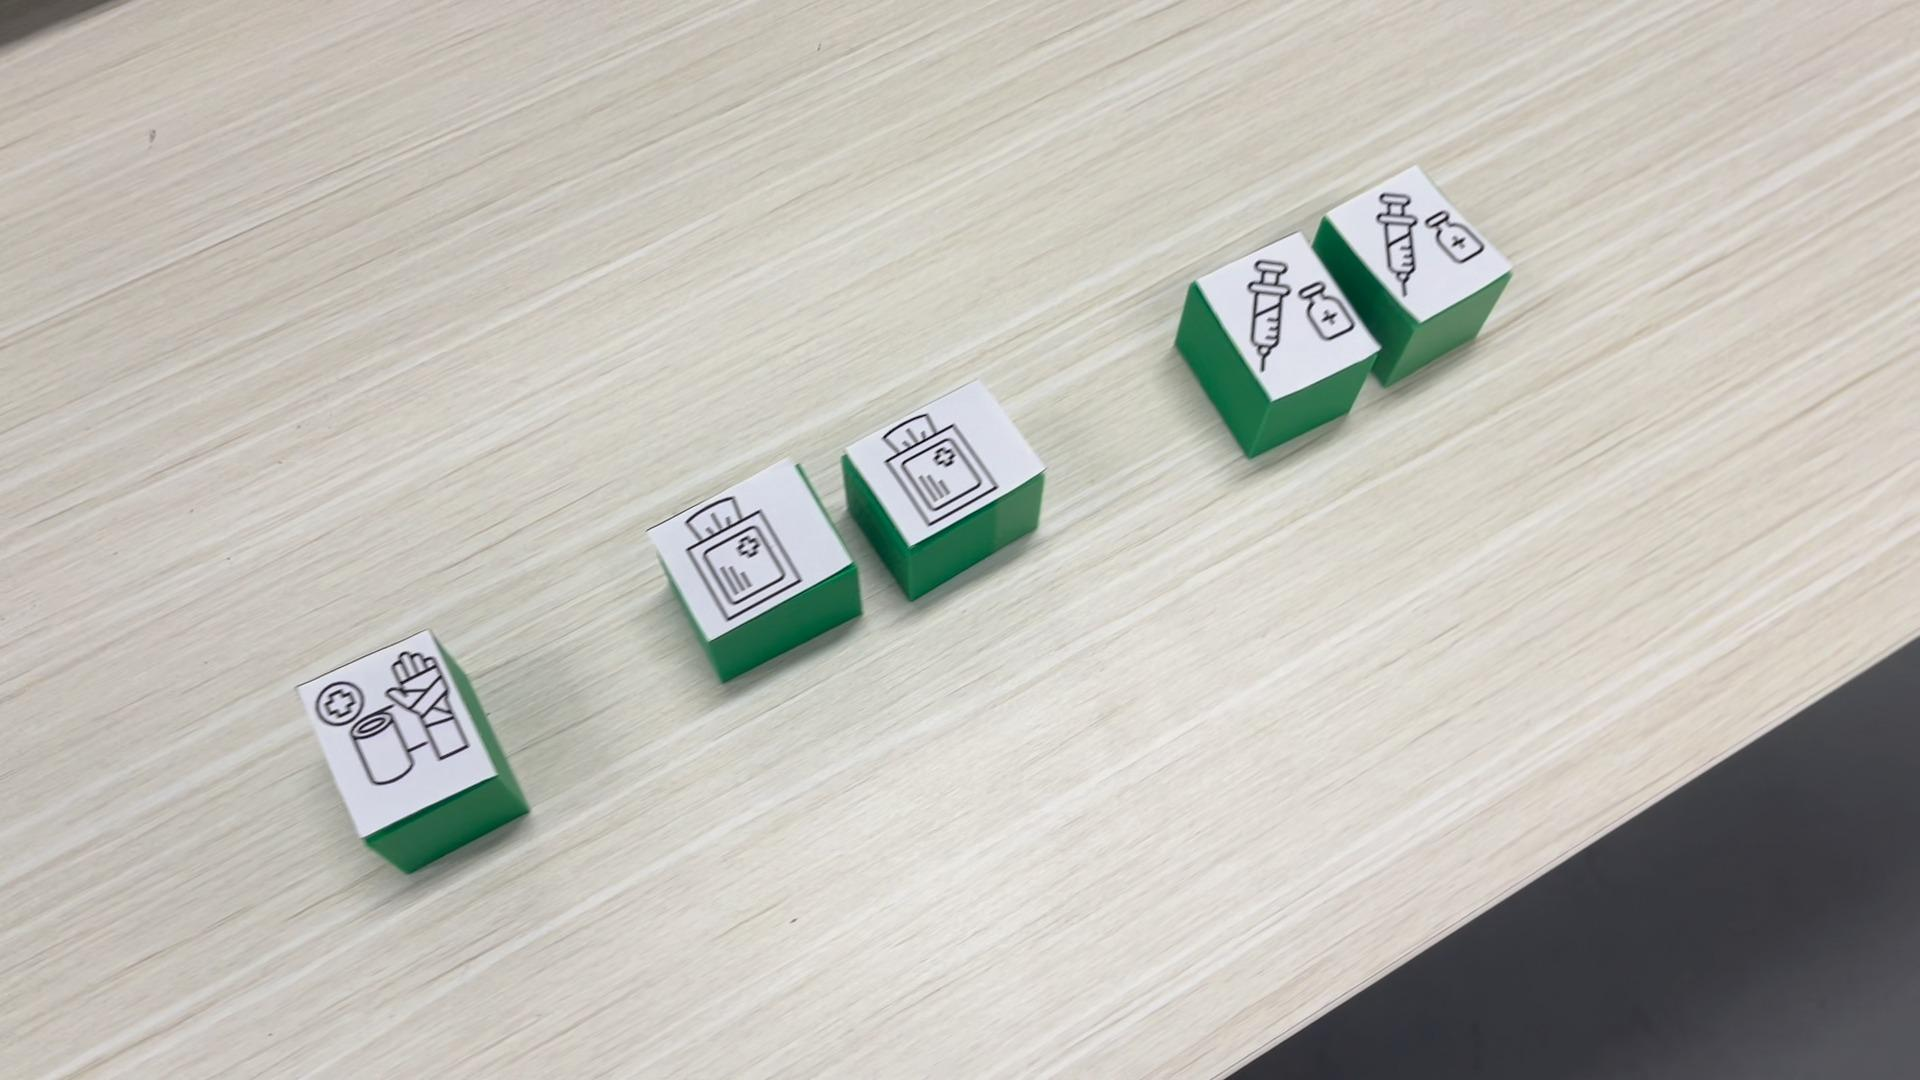Bandages: (287, 630, 529, 874)
Gauze: (644, 456, 862, 680), (833, 381, 1047, 600)
antiseptic cream: (1172, 228, 1383, 459), (1327, 162, 1516, 327)
